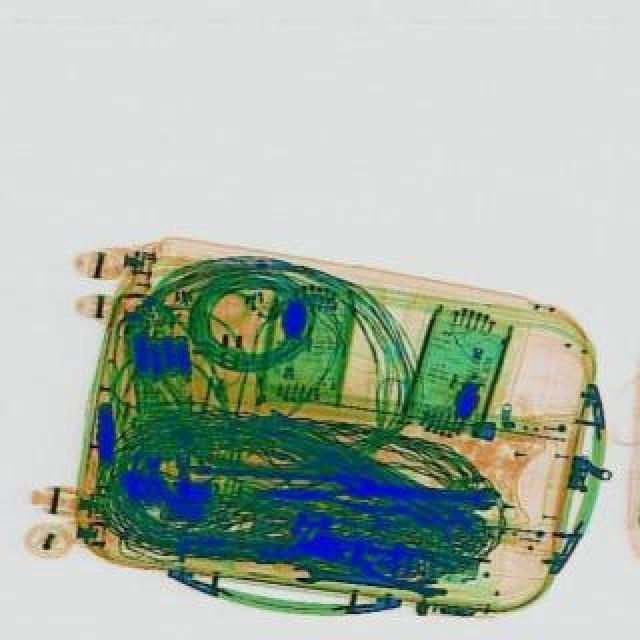scissors: (296, 560, 454, 598), (350, 474, 502, 510)
